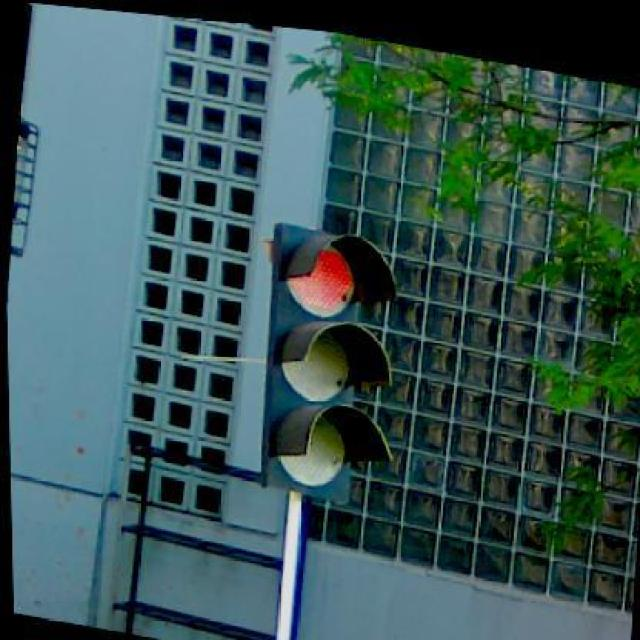Traffic Light -Red-: (254, 203, 415, 514)
